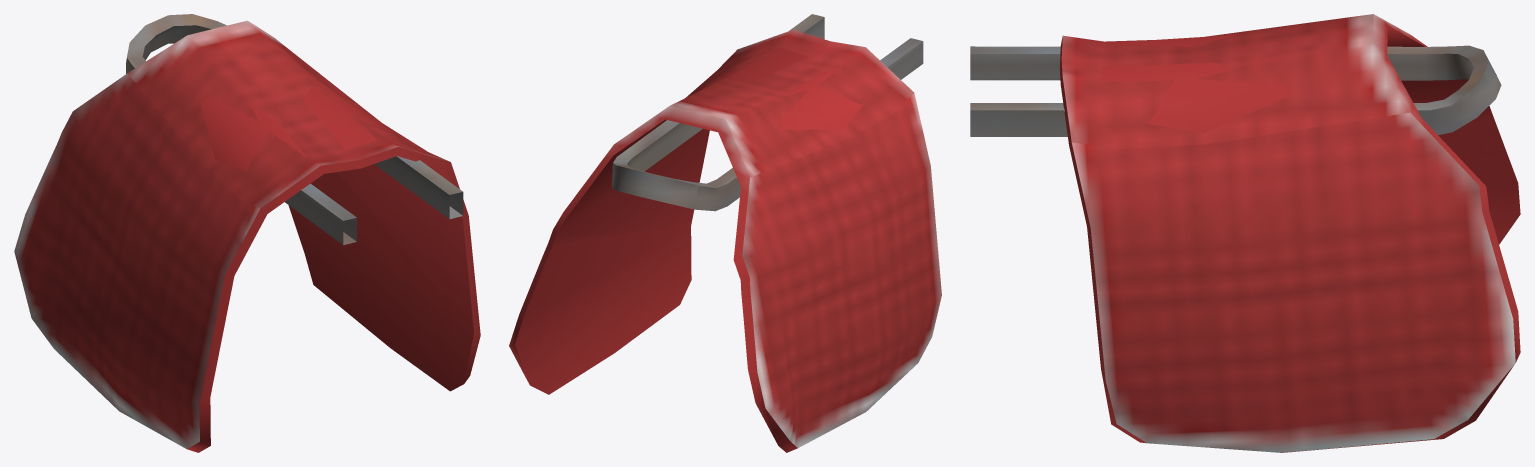
File: wall_saddle.FBX
The picture shows the model from 3 angles, left to right: view 1: azimuth 30°, elevation 25°; view 2: azimuth 150°, elevation 25°; view 3: azimuth 270°, elevation 25°; orthographic projection. The views are drawn at different scales.
Visible parts, largest first — view 1: wall_saddle; view 2: wall_saddle; view 3: wall_saddle.
Part boxes in pixels (x1,y1,x2,y2): wall_saddle: (14,14,480,452); wall_saddle: (509,14,941,452); wall_saddle: (970,14,1520,452).
Bounding box in the file's own units: 48.86 × 50.91 × 72.21.
Materials: 1 (1 with a texture image).
